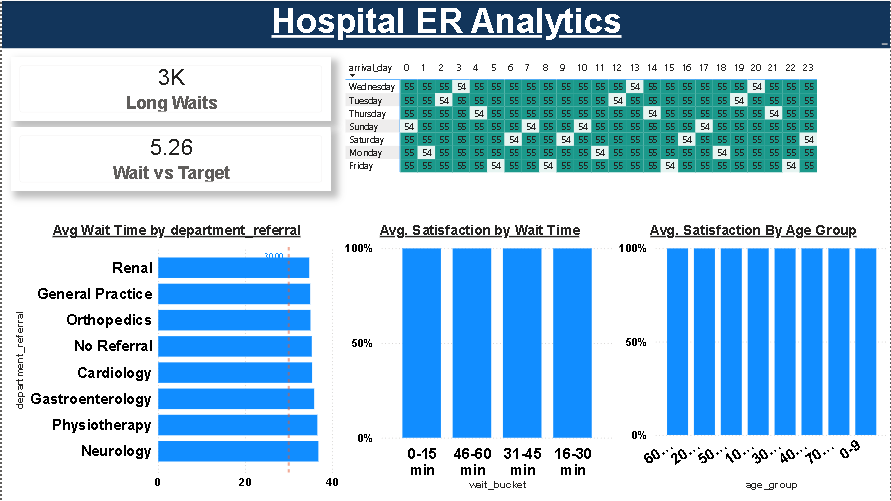

The dashboard page shown, as its layout file describes it:
{"tool":"powerbi","page":{"name":"Wait Time and Operations","canvas":[1280,720],"ordinal":1},"visuals":[{"type":"textbox","title":"Hospital ER Analytics","box":[0,0,1280.2,67.7],"z":0},{"type":"pivotTable","fields":{"Rows":["ER.arrival_day"],"Columns":["ER.arrival_hour"],"Values":["ER.Total Visits"]},"box":[489.6,80.6,790.6,292.3],"z":1000},{"type":"cardVisual","fields":{"Data":["ER.Long Waits"]},"box":[13,80.6,460.8,92.2],"z":2000},{"type":"cardVisual","fields":{"Data":["ER.Wait vs Target"]},"box":[13,181.4,460.8,92.2],"z":3000},{"type":"barChart","fields":{"Category":["ER.department_referral"],"Y":["ER.Avg Wait Time"]},"box":[13,318.2,476.6,391.7],"z":4000},{"type":"hundredPercentStackedColumnChart","title":"Avg. Satisfaction  by Wait Time","fields":{"Category":["ER.wait_bucket"],"Y":["ER.Avg Satisfaction (excl 5s)"]},"box":[489.6,318.2,396,391.7],"z":5000},{"type":"hundredPercentStackedColumnChart","title":"Avg. Satisfaction By Age Group","fields":{"Category":["ER.age_group"],"Y":["ER.Seen Within 30"]},"box":[884.2,318.2,396,391.7],"z":6000}]}

Visuals, with their boxes in screenshot pixels (x1, y1, x2, y2), scaled from the page's 1280x720 canvas onto the 891x501 screenshot:
"Hospital ER Analytics" textbox: x1=0, y1=0, x2=890, y2=47
pivotTable - ER.arrival_day x ER.arrival_hour: x1=341, y1=56, x2=890, y2=259
cardVisual - ER.Long Waits: x1=9, y1=56, x2=330, y2=120
cardVisual - ER.Wait vs Target: x1=9, y1=126, x2=330, y2=190
barChart - ER.department_referral x ER.Avg Wait Time: x1=9, y1=221, x2=341, y2=494
"Avg. Satisfaction  by Wait Time" hundredPercentStackedColumnChart: x1=341, y1=221, x2=616, y2=494
"Avg. Satisfaction By Age Group" hundredPercentStackedColumnChart: x1=615, y1=221, x2=890, y2=494
